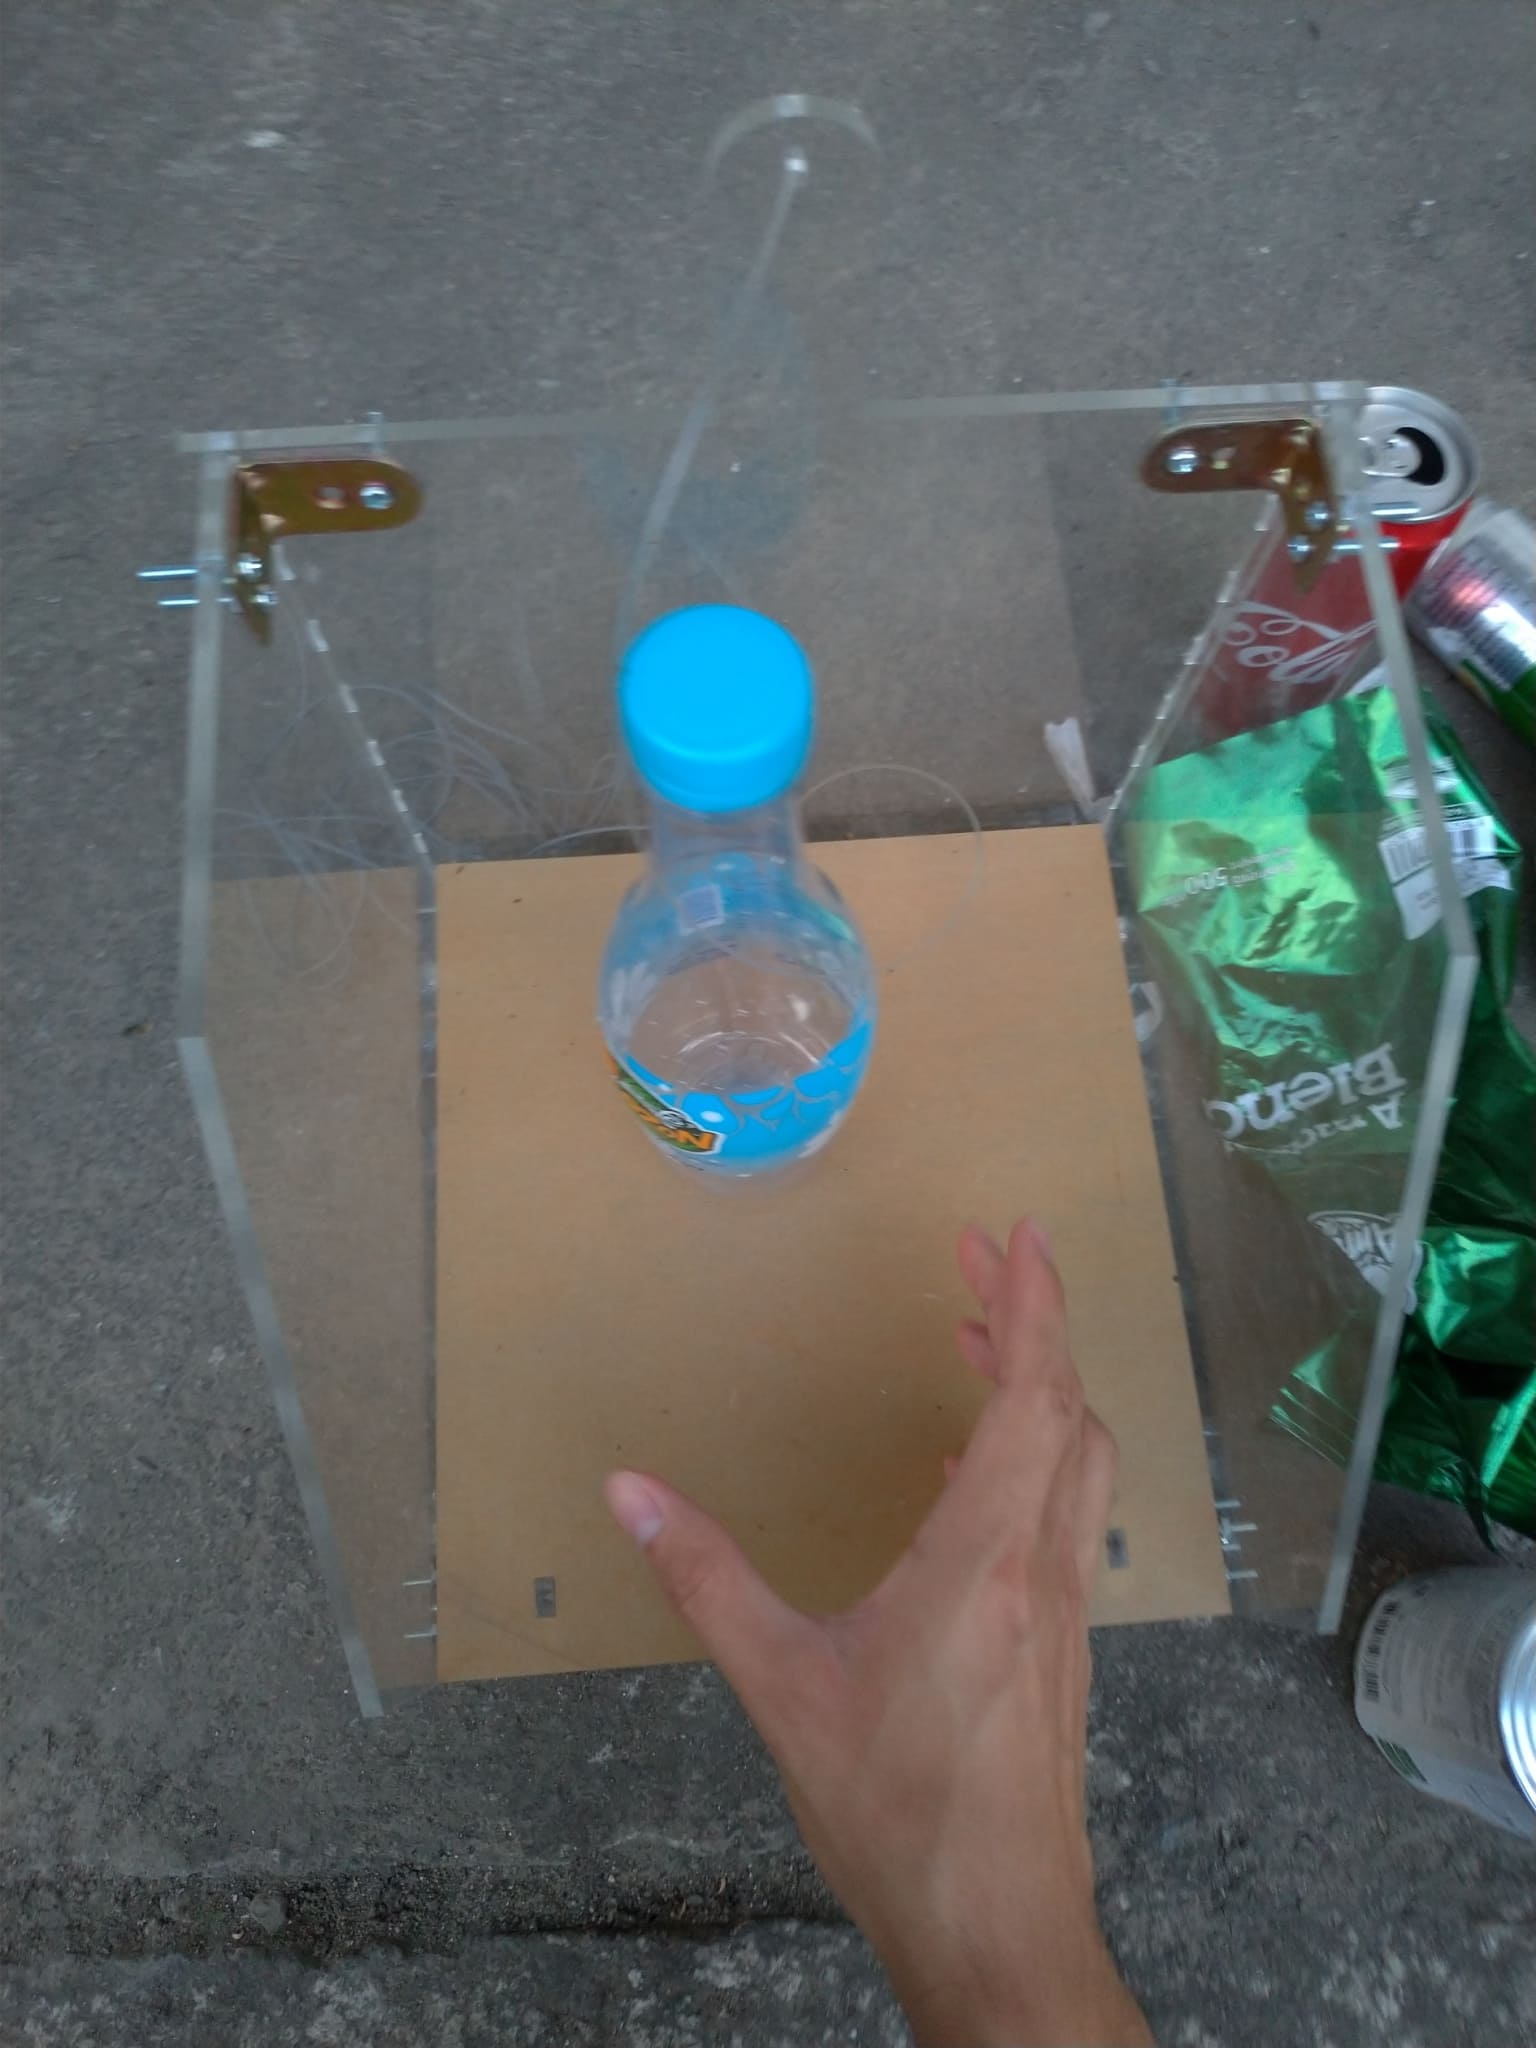AlCan: (1192, 384, 1483, 732), (1354, 1561, 1536, 1824)
Others: (1096, 697, 1536, 1529)
PlasticBottle: (599, 606, 883, 1197)
